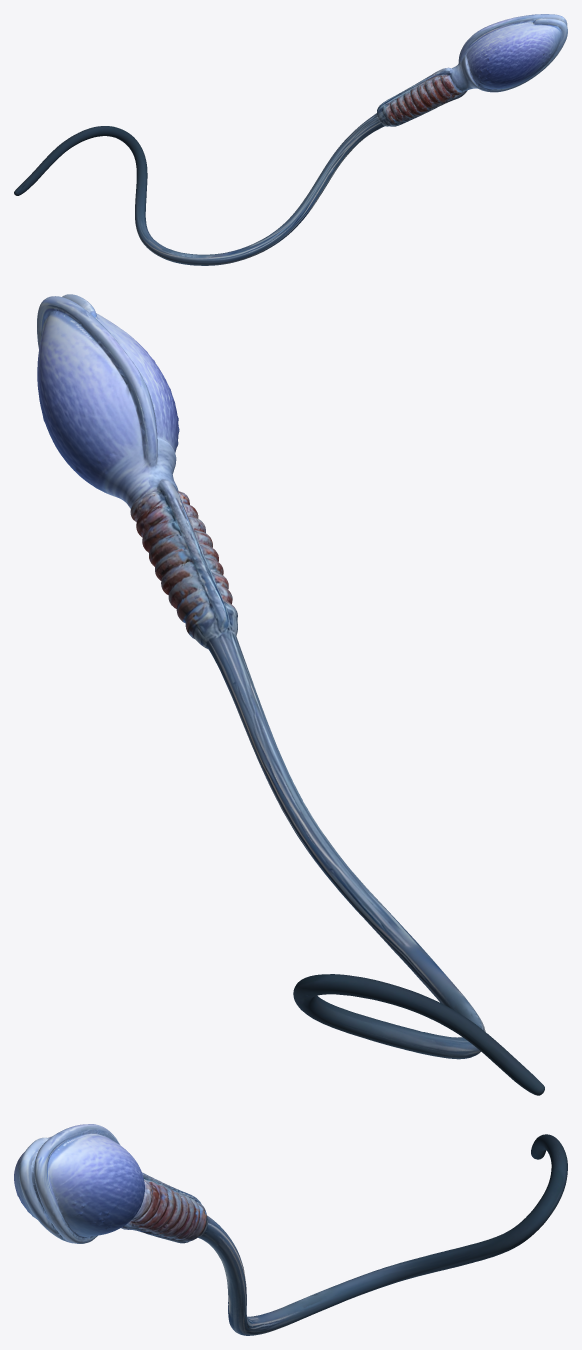
The model's file is sperm-cell-v2.glb.
The picture shows the model from 3 angles, top to bottom: view 1: azimuth 30°, elevation 25°; view 2: azimuth 150°, elevation 25°; view 3: azimuth 270°, elevation 25°; orthographic projection. The views are drawn at different scales.
Visible parts, largest first — view 1: node_0; view 2: node_0; view 3: node_0.
Part boxes in pixels (box(x1,y1,x2,y2)): node_0: box(14, 14, 567, 265); node_0: box(37, 294, 544, 1095); node_0: box(14, 1124, 567, 1335).
Size of the model in its own units: 0.9178 by 0.5222 by 0.6584.
Materials: 1 (1 with a texture image).
